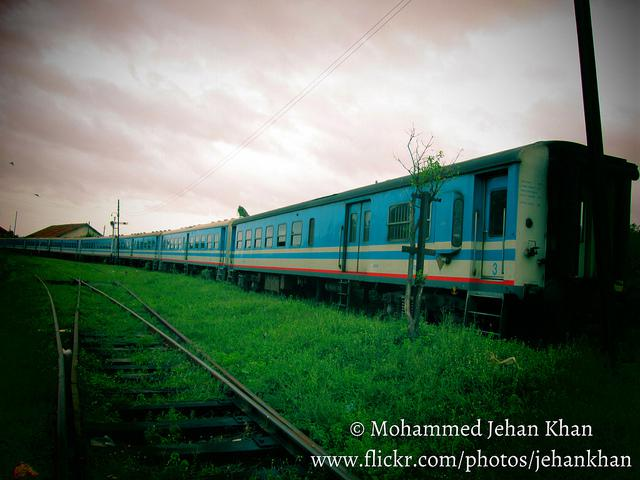Train: (0, 139, 638, 341)
